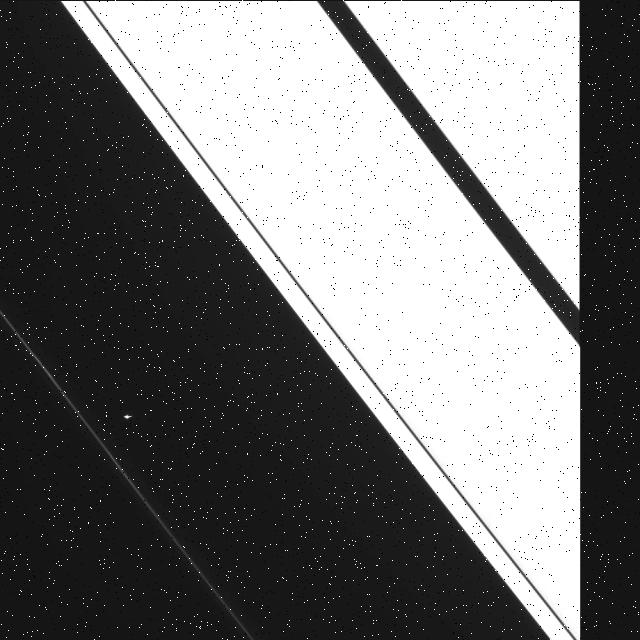Saturn: (43, 0, 580, 640)
